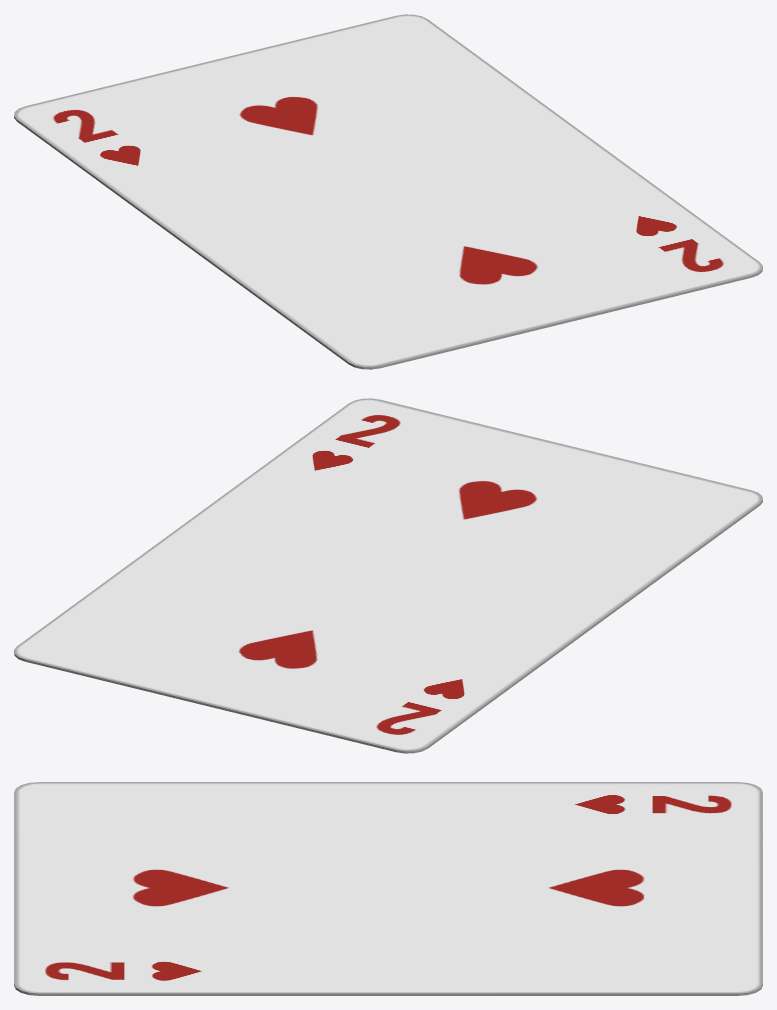
File: TrumpCard_02.fbx
3 views of the same model, one above another, from view 1: azimuth 30°, elevation 25°; view 2: azimuth 150°, elevation 25°; view 3: azimuth 270°, elevation 25° (orthographic). The views are drawn at different scales.
Visible parts, largest first — view 1: TrumpCard_02; view 2: TrumpCard_02; view 3: TrumpCard_02.
Boxes of the visible parts, x1=… form: TrumpCard_02: x1=14, y1=14, x2=762, y2=369; TrumpCard_02: x1=14, y1=398, x2=762, y2=753; TrumpCard_02: x1=14, y1=782, x2=762, y2=995.
Bounding box in the file's own units: 8 × 0.04 × 11.98.
